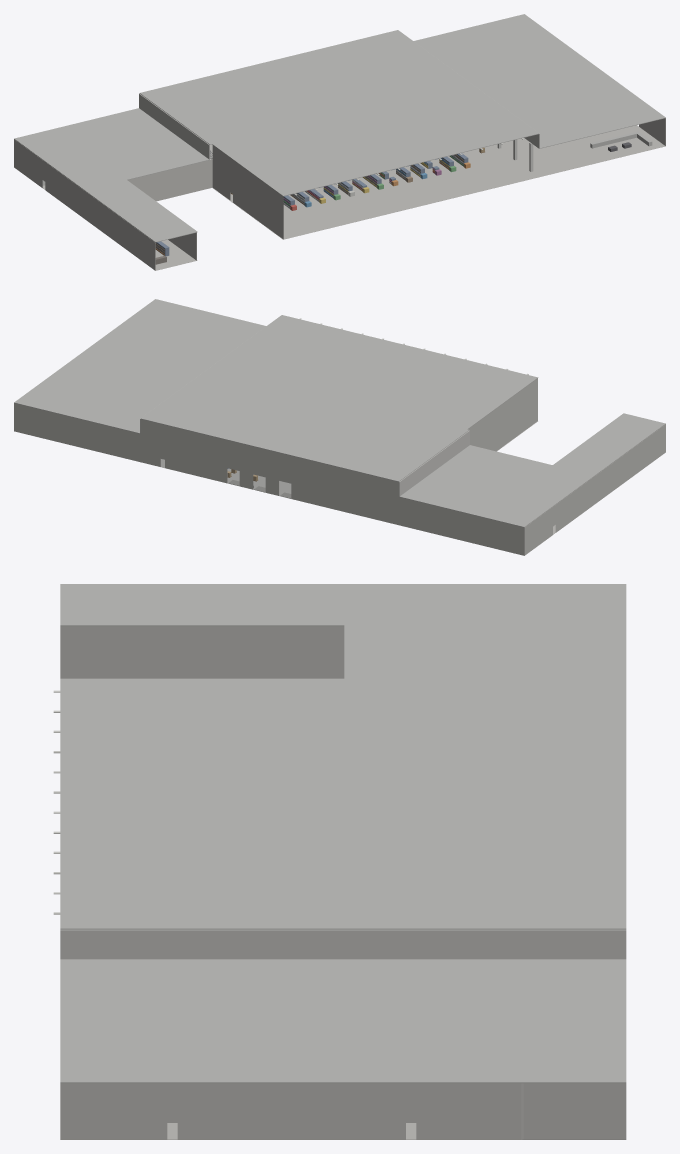
File: superstore-interior.zfix-v5.lod0.glb
3 views of the same model, one above another, from view 1: azimuth 30°, elevation 25°; view 2: azimuth 150°, elevation 25°; view 3: azimuth 270°, elevation 25° (orthographic). The views are drawn at different scales.
Visible parts, largest first — view 1: superstore-interior; view 2: superstore-interior; view 3: superstore-interior.
Part boxes in pixels (x1,y1,x2,y2): superstore-interior: (14, 14, 665, 270); superstore-interior: (14, 299, 665, 555); superstore-interior: (53, 584, 626, 1139).
Size of the model in its own units: 148 by 12.19 by 72.01.
